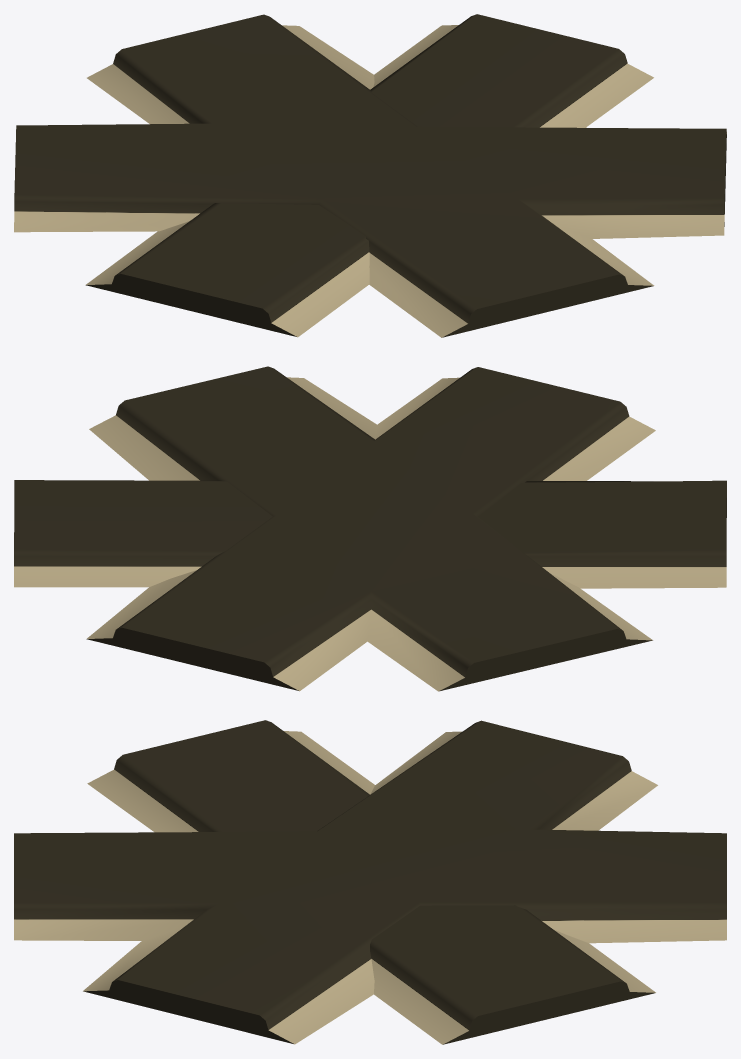
Rendered from Road_HexStar.fbx.
3 views of the same model, one above another, from view 1: azimuth 30°, elevation 25°; view 2: azimuth 150°, elevation 25°; view 3: azimuth 270°, elevation 25° (orthographic).
Visible parts, largest first — view 1: Road_HexStar; view 2: Road_HexStar; view 3: Road_HexStar.
Part boxes in pixels (box(x1,y1,x2,y2)): Road_HexStar: box(14, 14, 726, 337); Road_HexStar: box(14, 366, 726, 691); Road_HexStar: box(14, 720, 726, 1044).
Size of the model in its own units: 0.9003 by 0.0276 by 0.866.
